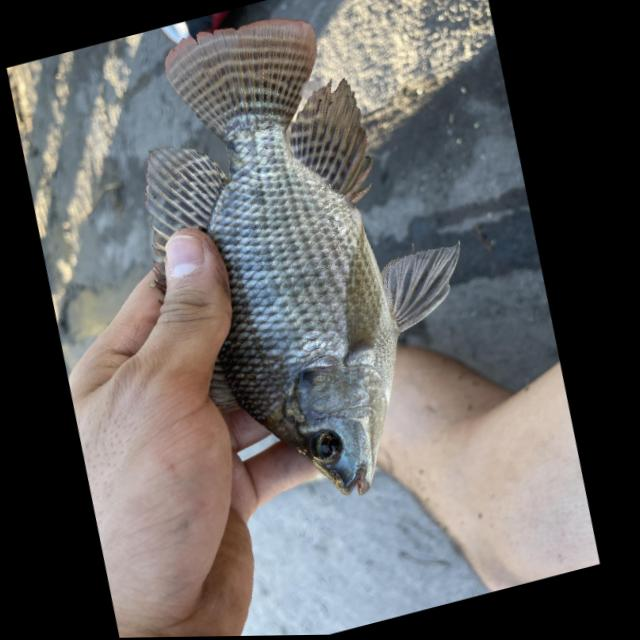Tilapia: (87, 0, 529, 539)
